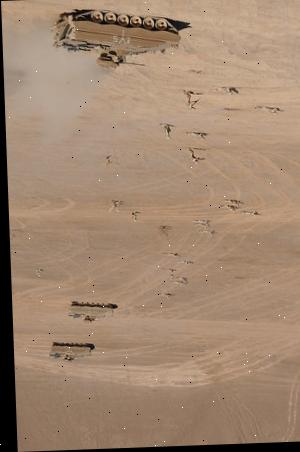armored_car: (50, 6, 181, 71), (69, 296, 116, 327), (47, 337, 93, 365)
